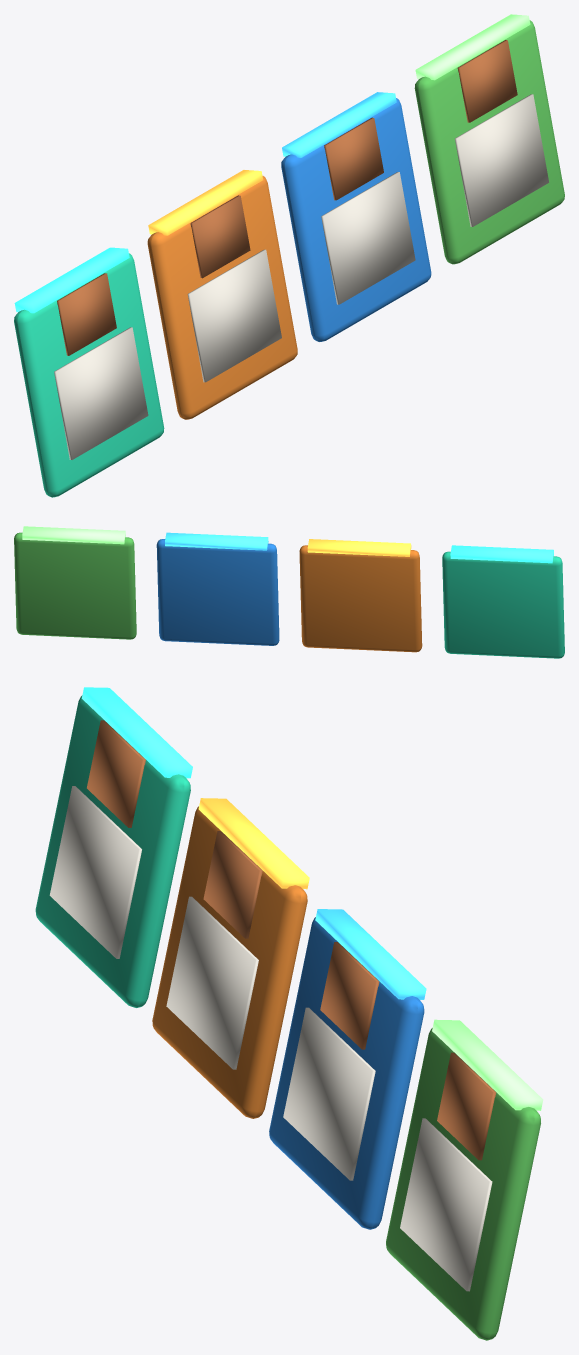
The model's file is discos.glb.
3 renders of one model, top to bottom at view 1: azimuth 30°, elevation 25°; view 2: azimuth 150°, elevation 25°; view 3: azimuth 270°, elevation 25°, orthographic. The views are drawn at different scales.
Parts seen in each view (by area): view 1: Disco_Desierto.001, Disco_Mar.001, Disco_Autopoiesis.001, Disco_Bosque.001; view 2: Disco_Bosque.001, Disco_Autopoiesis.001, Disco_Mar.001, Disco_Desierto.001; view 3: Disco_Desierto.001, Disco_Autopoiesis.001, Disco_Mar.001, Disco_Bosque.001.
Part boxes in pixels (x1,y1,x2,y2): Disco_Desierto.001: (147, 170, 297, 419); Disco_Mar.001: (281, 92, 431, 341); Disco_Autopoiesis.001: (14, 247, 164, 497); Disco_Bosque.001: (414, 14, 564, 264); Disco_Bosque.001: (14, 526, 136, 639); Disco_Autopoiesis.001: (442, 545, 564, 658); Disco_Mar.001: (156, 532, 279, 645); Disco_Desierto.001: (299, 539, 422, 652); Disco_Desierto.001: (152, 798, 309, 1118); Disco_Autopoiesis.001: (35, 687, 192, 1007); Disco_Mar.001: (269, 909, 426, 1229); Disco_Bosque.001: (386, 1019, 543, 1340).
Bounding box in the file's own units: 0.5017 × 0.1247 × 0.2476.
